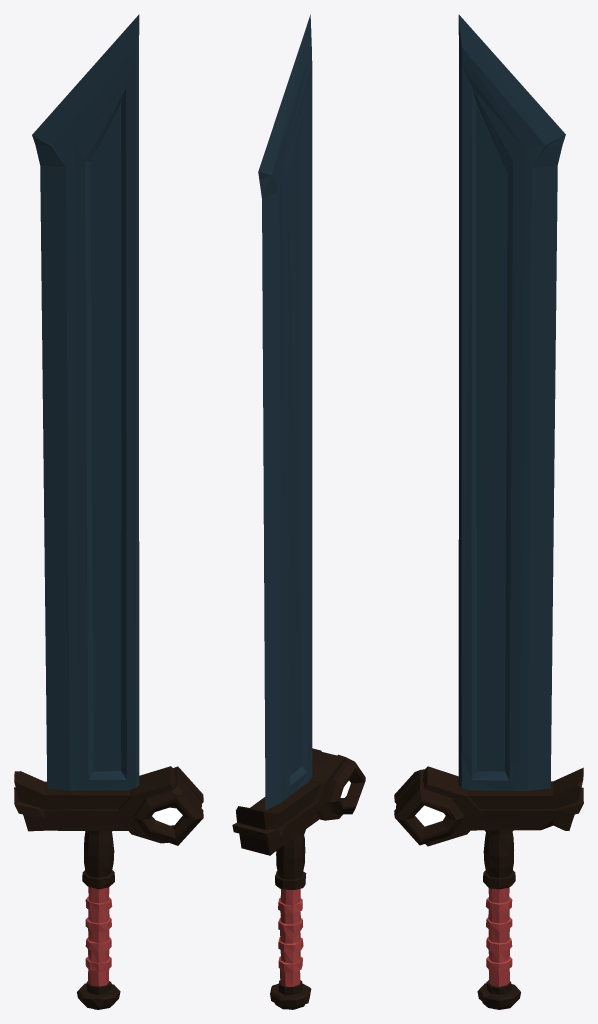
File: SFFA_Weapon_Sword_Gold_006.fbx
The picture shows the model from 3 angles, left to right: view 1: azimuth 90°, elevation 25°; view 2: azimuth 150°, elevation 25°; view 3: azimuth 270°, elevation 25°; orthographic projection.
Visible parts, largest first — view 1: SFFA_Weapon_Sword_Gold_006; view 2: SFFA_Weapon_Sword_Gold_006; view 3: SFFA_Weapon_Sword_Gold_006.
Part boxes in pixels (box(x1,y1,x2,y2)): SFFA_Weapon_Sword_Gold_006: box(14, 14, 203, 1009); SFFA_Weapon_Sword_Gold_006: box(232, 14, 365, 1009); SFFA_Weapon_Sword_Gold_006: box(394, 14, 583, 1009).
Size of the model in its own units: 7.46 by 125 by 21.61.
